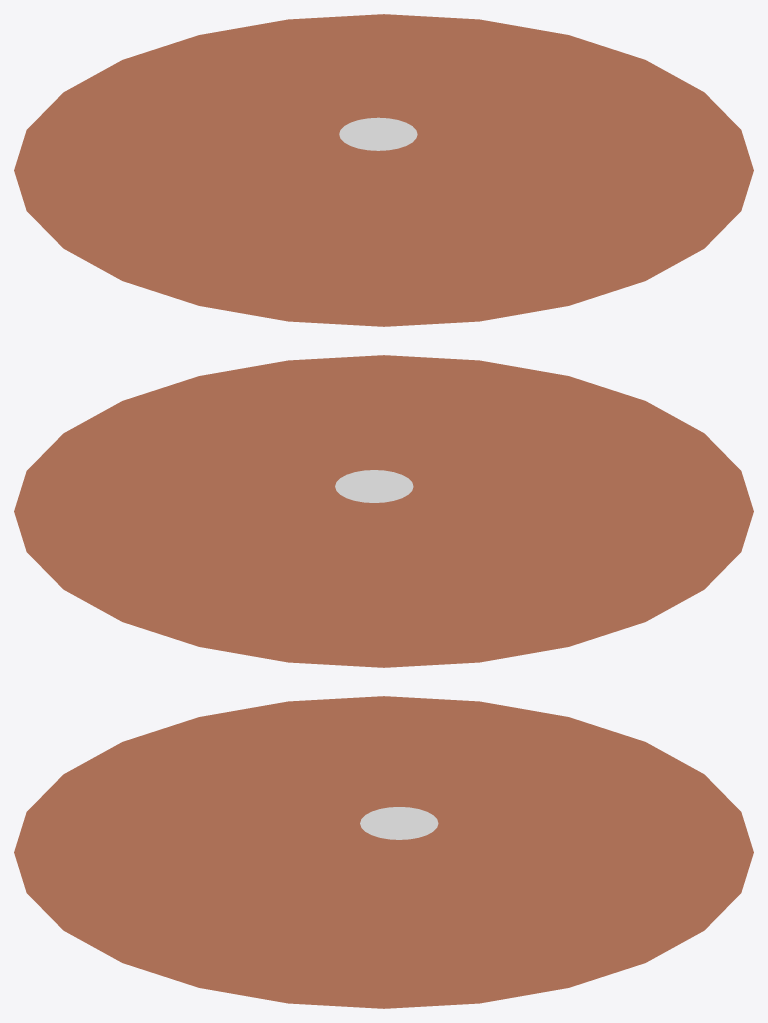
Rendered from vinyl.fbx.
The picture shows the model from 3 angles, top to bottom: view 1: azimuth 30°, elevation 25°; view 2: azimuth 150°, elevation 25°; view 3: azimuth 270°, elevation 25°; orthographic projection.
Parts seen in each view (by area): view 1: pDisc2, pDisc3; view 2: pDisc2, pDisc3; view 3: pDisc2, pDisc3.
Boxes of the visible parts, x1,y1,x2,y2 form: pDisc2: [14, 14, 753, 326]; pDisc3: [339, 117, 417, 150]; pDisc2: [14, 355, 753, 667]; pDisc3: [335, 470, 413, 502]; pDisc2: [14, 696, 753, 1008]; pDisc3: [360, 807, 438, 839].
Size of what is drawn, in the model's own units: 2 by 0.0897 by 2.
